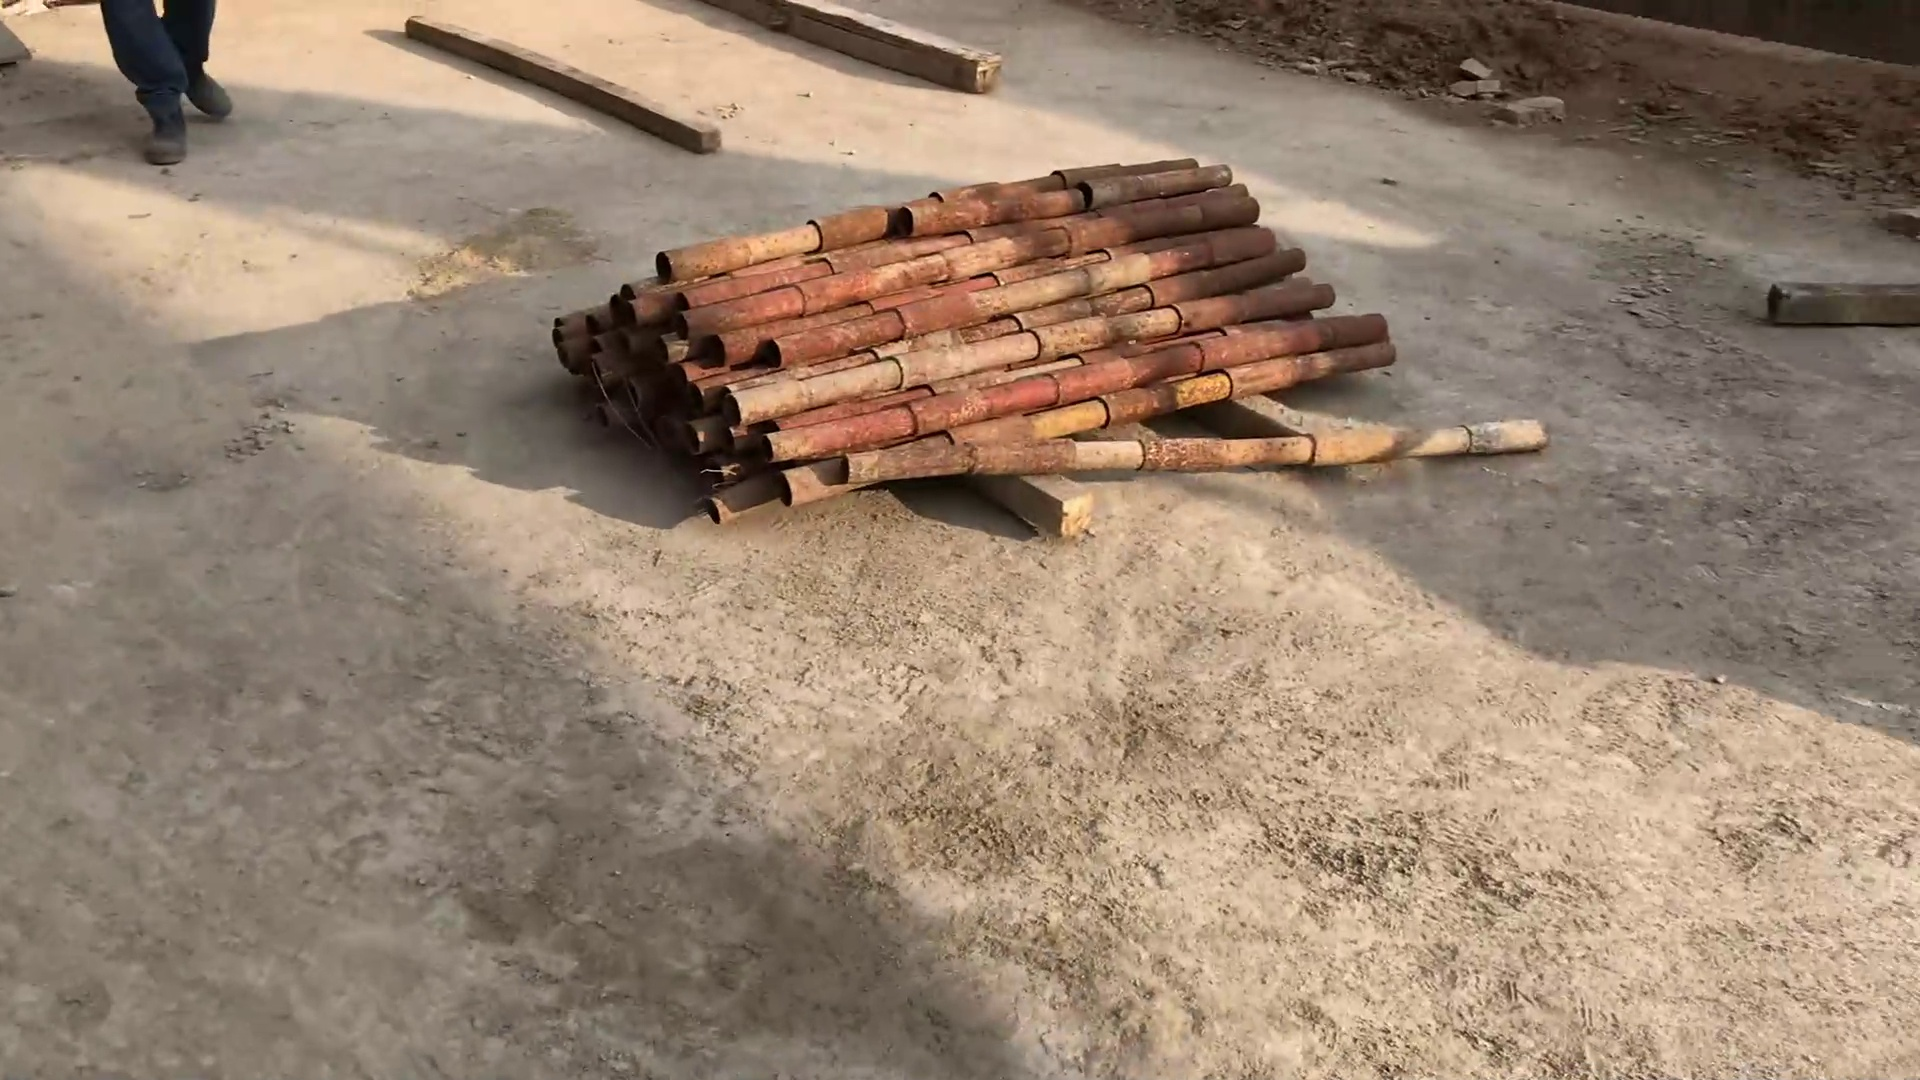person: (99, 1, 237, 171)
scaffold: (549, 149, 1551, 525)
